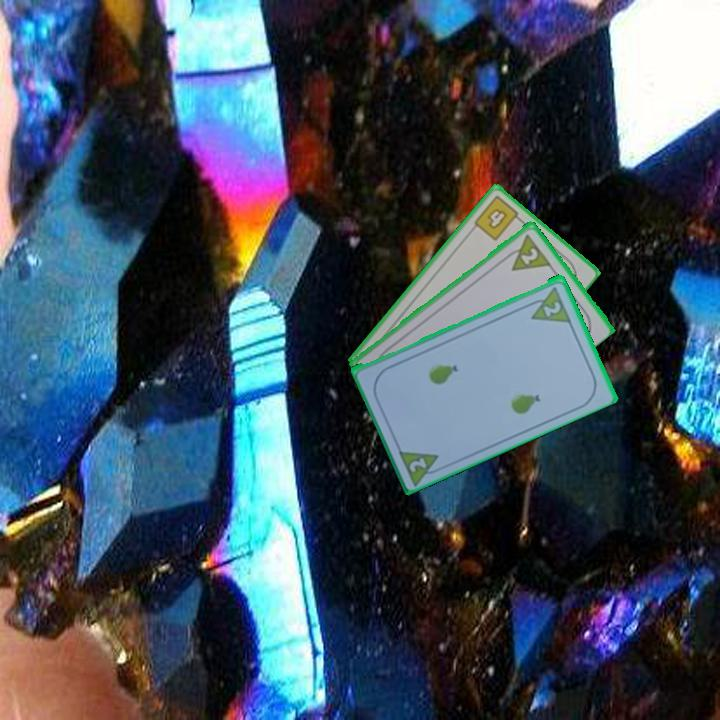2p: (500, 230, 553, 274), (395, 444, 447, 487), (540, 297, 564, 319)
4b: (470, 192, 526, 243)
